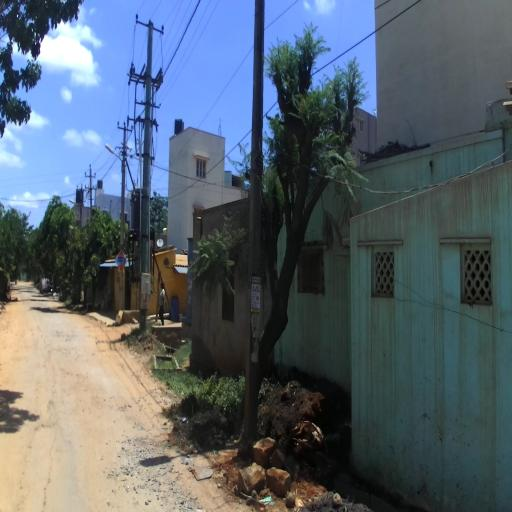street_light_0: (104, 143, 126, 173), (69, 200, 82, 213)
